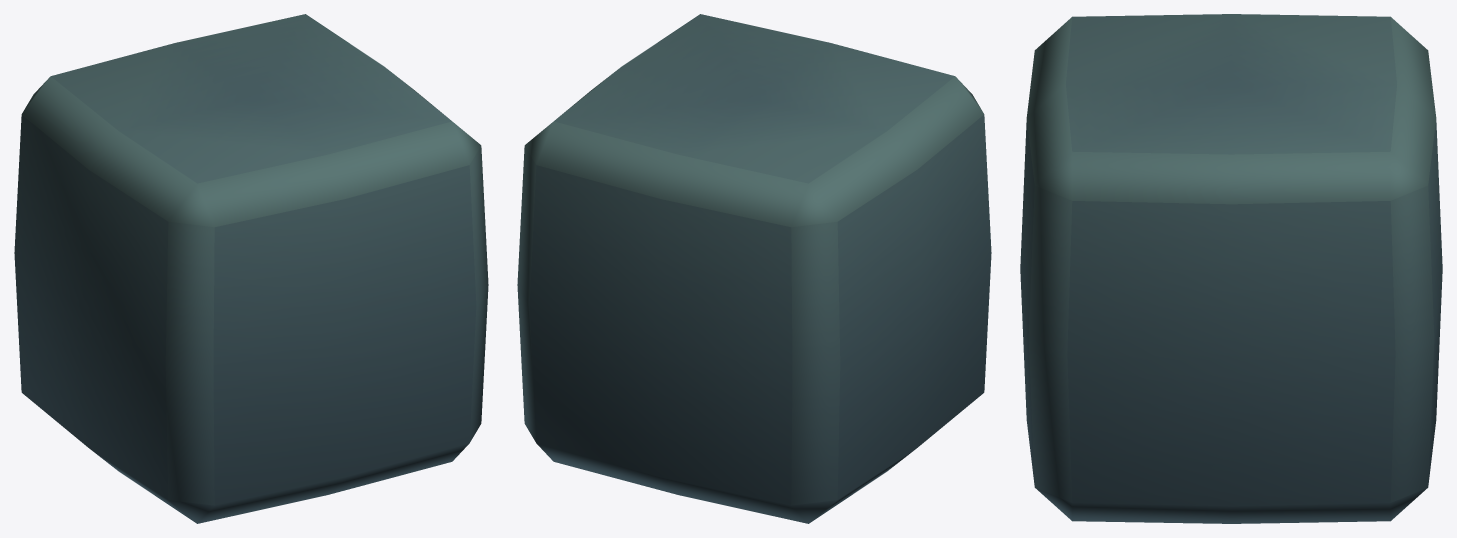
The model's file is cube_50cm_dark.fbx.
3 views of the same model, side by side, from view 1: azimuth 30°, elevation 25°; view 2: azimuth 150°, elevation 25°; view 3: azimuth 270°, elevation 25° (orthographic). The views are drawn at different scales.
Parts seen in each view (by area): view 1: cube_50cm_dark; view 2: cube_50cm_dark; view 3: cube_50cm_dark.
Boxes of the visible parts, x1,y1,x2,y2 form: cube_50cm_dark: (14,14,488,523); cube_50cm_dark: (517,14,991,523); cube_50cm_dark: (1020,14,1442,523).
Bounding box in the file's own units: 56.86 × 55.02 × 57.01.
